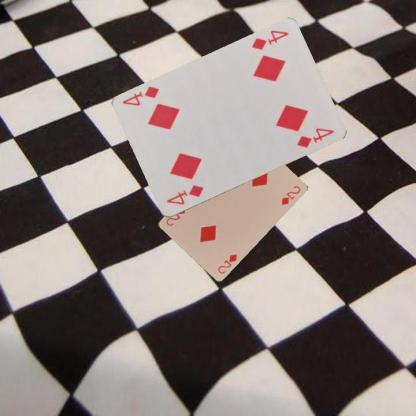2d: (215, 252, 238, 274)
4d: (164, 182, 205, 207), (248, 28, 290, 52)
